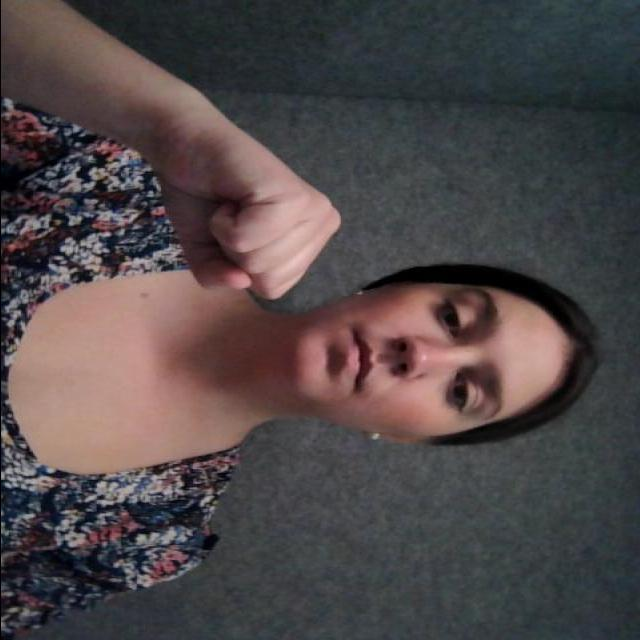Rock: (122, 119, 352, 307)
